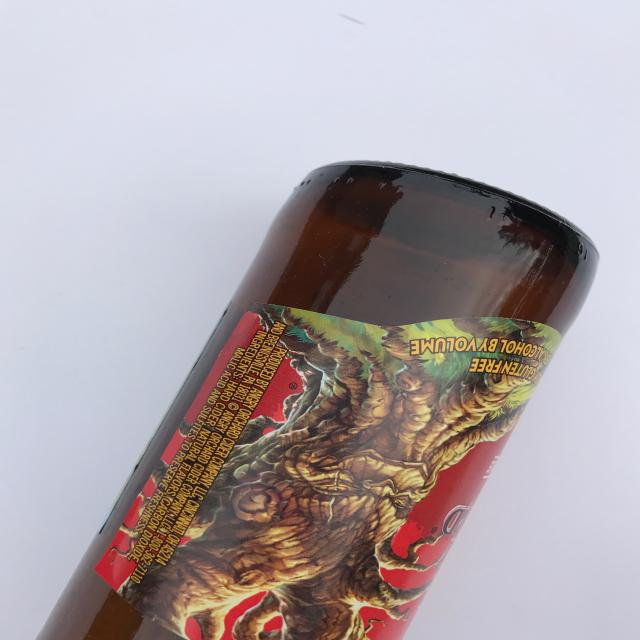glass: (26, 159, 600, 640)
